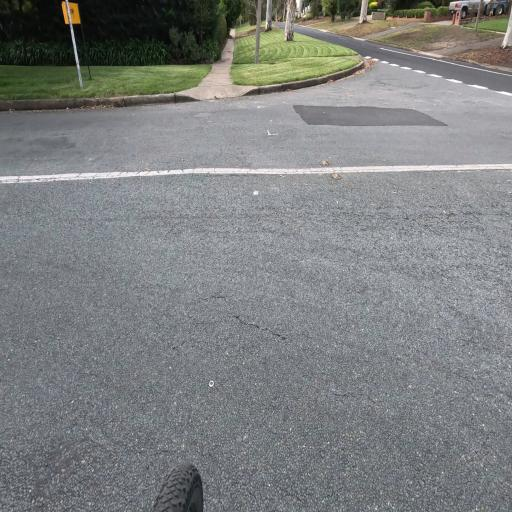kerb_cut: (199, 83, 244, 104)
